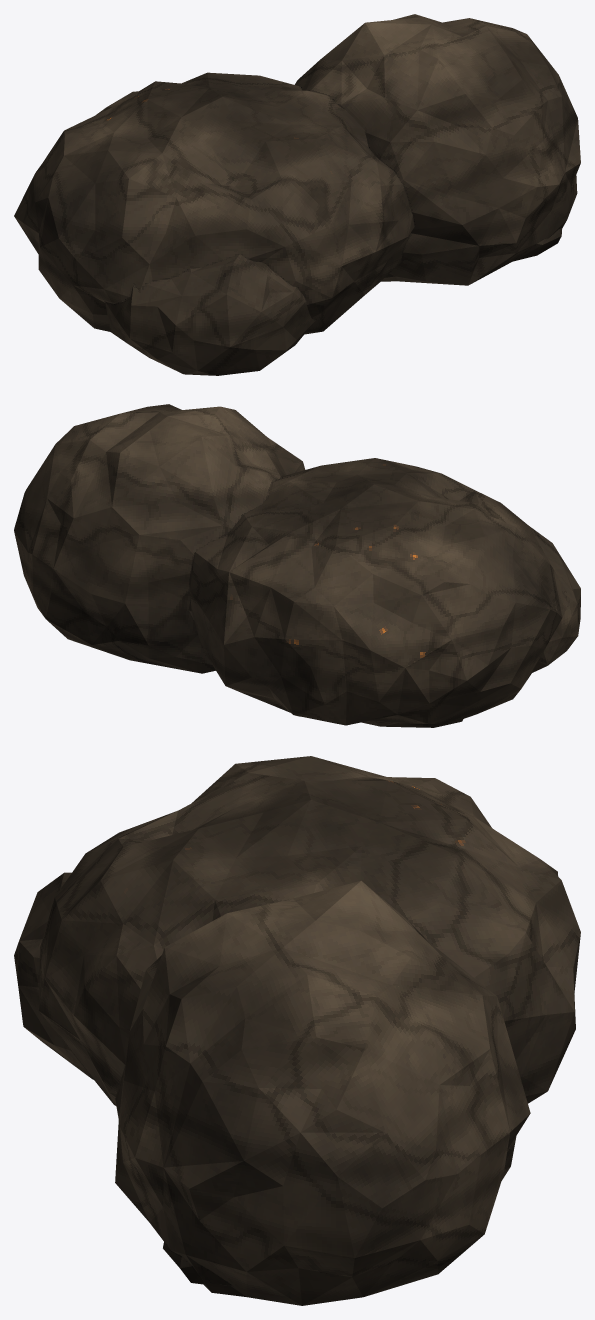
The model's file is mine_rocks_b.glb.
3 renders of one model, top to bottom at view 1: azimuth 30°, elevation 25°; view 2: azimuth 150°, elevation 25°; view 3: azimuth 270°, elevation 25°, orthographic. The views are drawn at different scales.
Visible parts, largest first — view 1: mine_rocks_b; view 2: mine_rocks_b; view 3: mine_rocks_b.
Boxes of the visible parts, bbox=[...] form: mine_rocks_b: bbox=[14, 14, 580, 375]; mine_rocks_b: bbox=[14, 404, 580, 727]; mine_rocks_b: bbox=[14, 756, 580, 1305].
Bounding box in the file's own units: 1.84 × 0.7255 × 1.18.
1 material, 1 textured.
